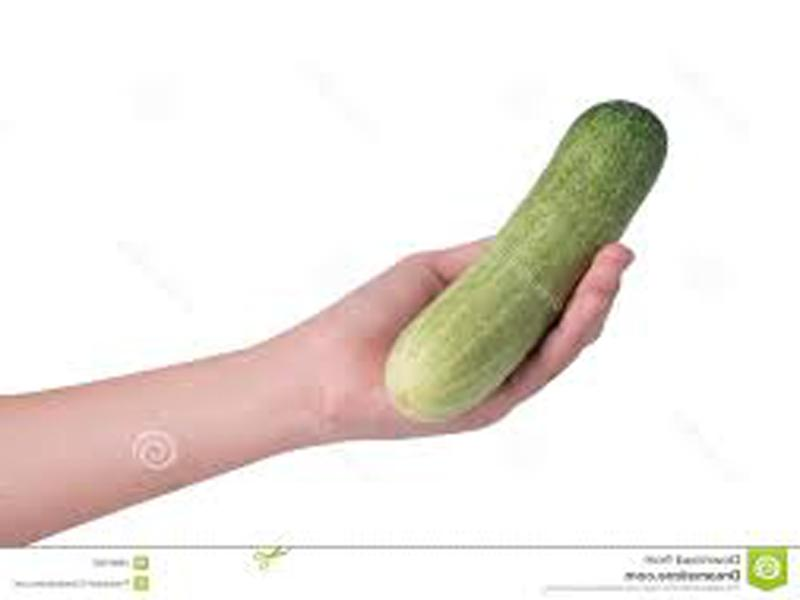Cucumber: (385, 103, 663, 419)
